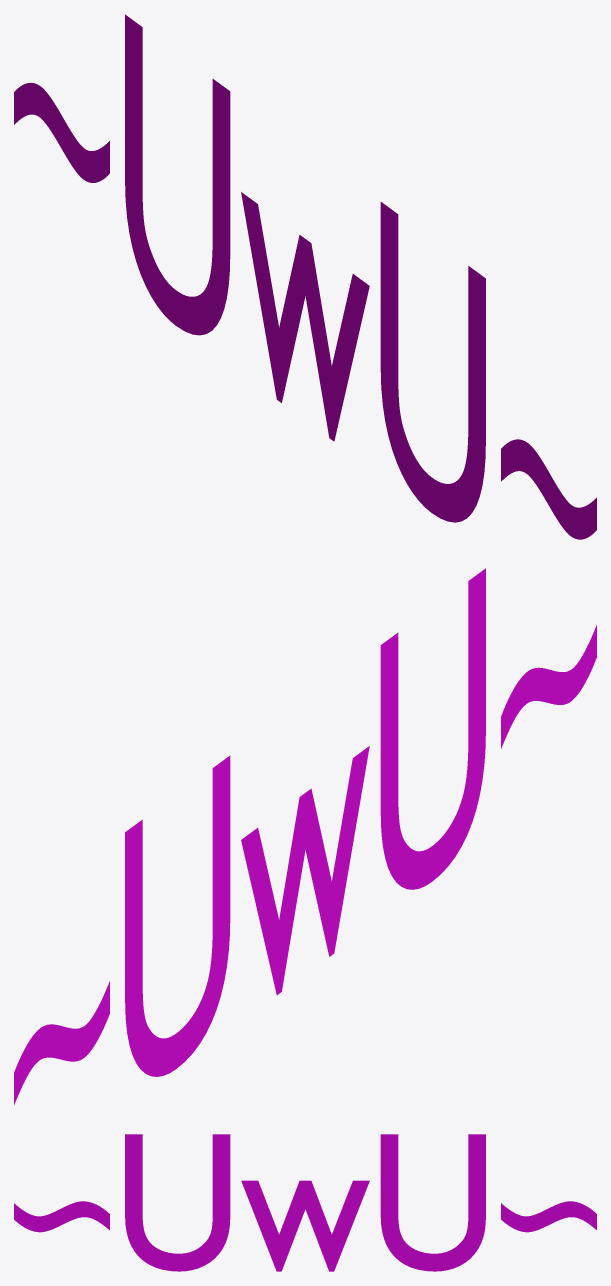
Rendered from tulisan.obj.
3 views of the same model, one above another, from view 1: azimuth 30°, elevation 25°; view 2: azimuth 150°, elevation 25°; view 3: azimuth 270°, elevation 25° (orthographic). The views are drawn at different scales.
Parts seen in each view (by area): view 1: tulisan; view 2: tulisan; view 3: tulisan.
Part boxes in pixels (x1,y1,x2,y2): tulisan: (14, 14, 596, 539); tulisan: (14, 568, 596, 1104); tulisan: (14, 1134, 596, 1271).
Bounding box in the file's own units: 0 × 0.2073 × 0.7986.
